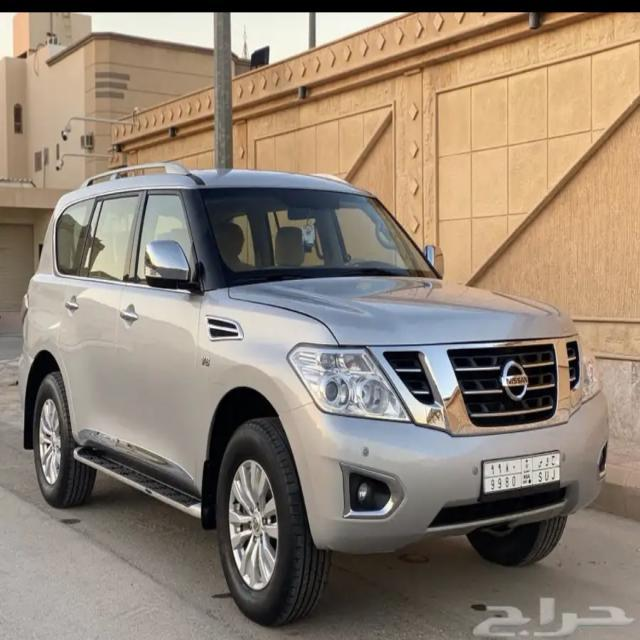license_plate: (484, 451, 560, 495)
